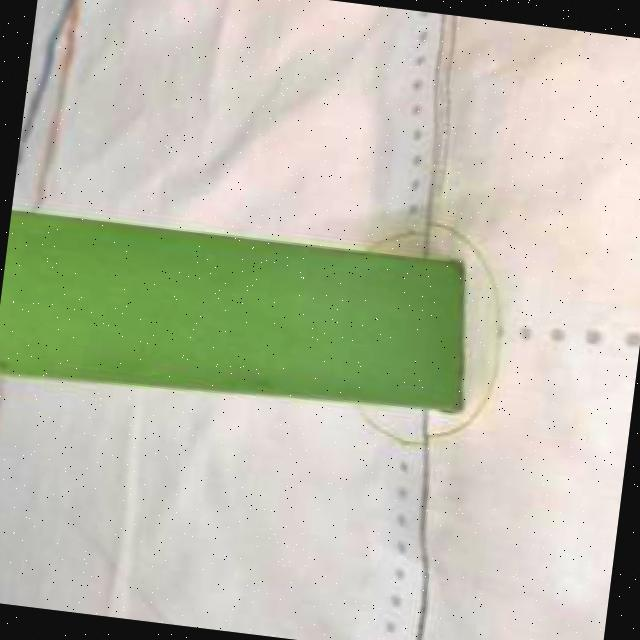greenbox: (0, 206, 474, 432)
